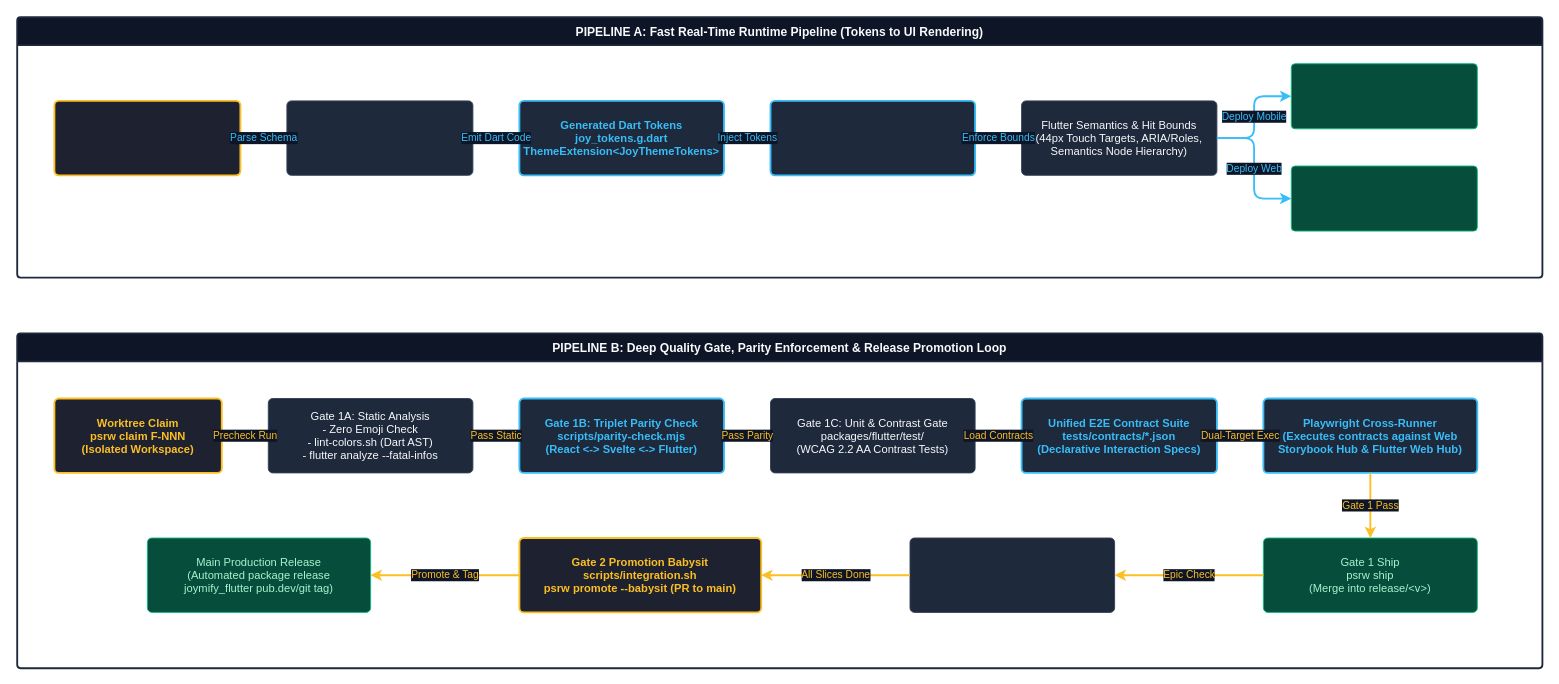
This 1559x684 diagram has some shape labels left out. Each missing label, with the centre of its shape:
"Epic Gate Verification scripts/epic-check.sh psrw epic verify" goes at (1012,574).
"Flutter Web Showcase apps/flutter-hub (Wasm / CanvasKit Canvas)" goes at (1383,198).
"Joymify Flutter Library packages/flutter/lib/ (JoyButton, JoyInput, JoyModal...)" goes at (872,138).
"Native Mobile Apps (iOS & Android Targets joy-coach-fe / quant-fe)" goes at (1383,96).
"Token Compiler build.js & gen-dart-tokens.mjs (Transforms JSON -> Dart)" goes at (379,137).
"Token Source packages/tokens/src/tokens.json (Single Source of Truth)" goes at (147,138).
